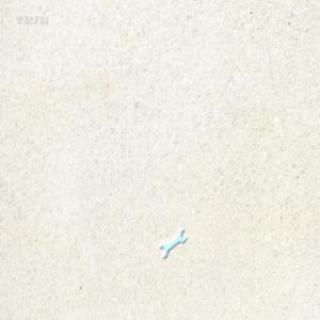Wrenchtrack_idkeyframe: (158, 229, 184, 259)
